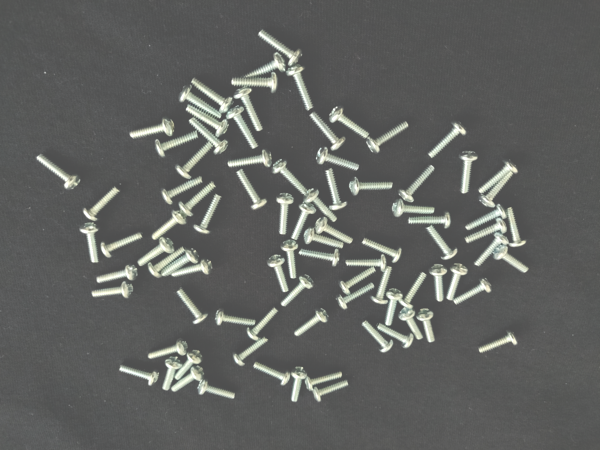shortscrew: (258, 28, 303, 67), (428, 119, 468, 159), (187, 117, 229, 155), (36, 155, 81, 190), (191, 77, 233, 114), (178, 84, 223, 118), (477, 158, 518, 195), (366, 119, 409, 154), (175, 142, 214, 180), (309, 112, 347, 151), (398, 164, 436, 203), (226, 106, 260, 149), (271, 158, 309, 196), (478, 170, 515, 209), (83, 184, 121, 221), (178, 181, 217, 217), (185, 104, 228, 136), (329, 106, 369, 140), (236, 169, 268, 211), (285, 64, 314, 110), (175, 286, 209, 325), (160, 176, 204, 206), (234, 87, 263, 132), (238, 53, 286, 80), (100, 229, 144, 258), (463, 217, 508, 245), (475, 232, 510, 268), (193, 193, 223, 234), (303, 188, 338, 223), (148, 248, 187, 279), (453, 276, 493, 306), (155, 131, 199, 158), (279, 274, 315, 307), (361, 318, 394, 354), (293, 306, 330, 338), (160, 248, 200, 277), (151, 209, 188, 240), (465, 204, 509, 230), (137, 237, 175, 267), (232, 337, 270, 367), (336, 283, 376, 311), (427, 225, 458, 261), (129, 116, 175, 140), (361, 238, 403, 264), (315, 217, 354, 245), (247, 306, 278, 341), (317, 146, 360, 171), (493, 245, 530, 274), (231, 72, 279, 94), (338, 268, 377, 295), (118, 363, 160, 388), (324, 168, 348, 211), (376, 323, 414, 350), (292, 200, 317, 241), (147, 338, 189, 361), (267, 253, 291, 293), (478, 330, 518, 354), (174, 348, 203, 381), (253, 362, 290, 387), (79, 223, 102, 263), (304, 226, 344, 249), (171, 366, 205, 393), (303, 370, 344, 392), (371, 266, 394, 305), (398, 307, 424, 341), (95, 264, 139, 284), (313, 379, 351, 402), (348, 177, 394, 196), (298, 247, 341, 267), (197, 378, 236, 400), (447, 262, 469, 301), (228, 149, 273, 168), (275, 193, 295, 235), (506, 208, 527, 248), (91, 280, 134, 299), (171, 259, 214, 278), (393, 199, 436, 218), (409, 210, 452, 229), (216, 308, 256, 328), (280, 240, 299, 280), (162, 356, 183, 392), (346, 255, 389, 272), (386, 287, 404, 327), (416, 307, 436, 343), (428, 263, 446, 302), (291, 367, 308, 402)
